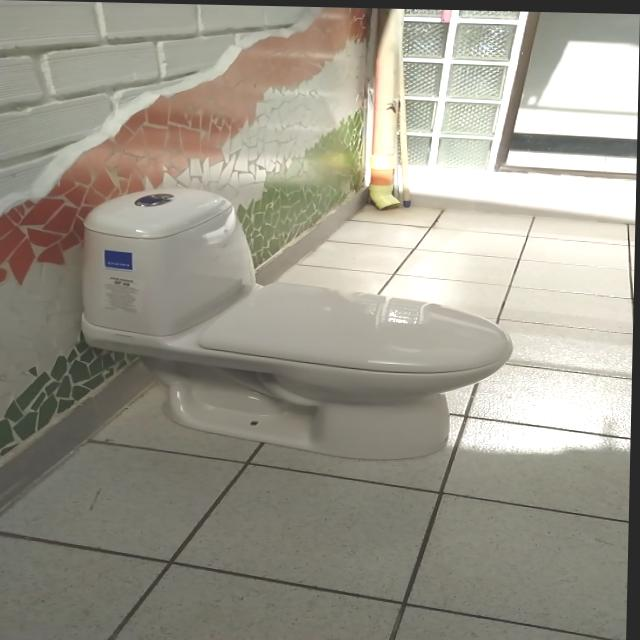toilet: (79, 184, 518, 461)
